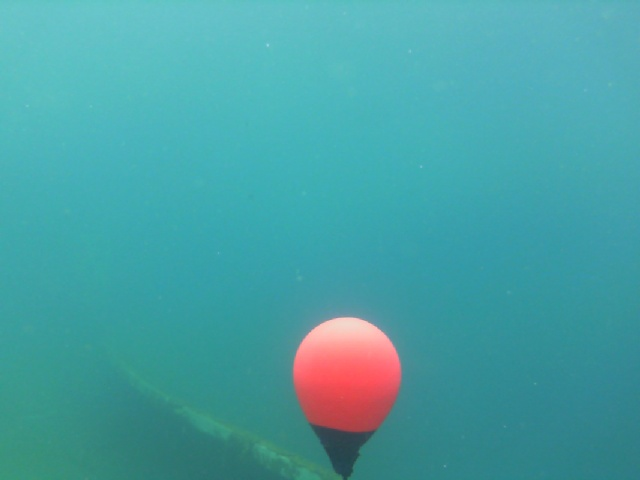buoy_red: (290, 314, 405, 479)
